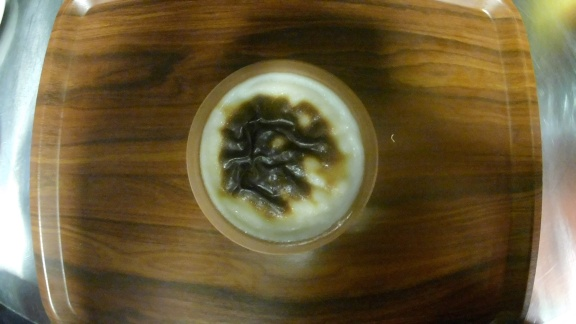sutlac: (187, 59, 381, 256)
